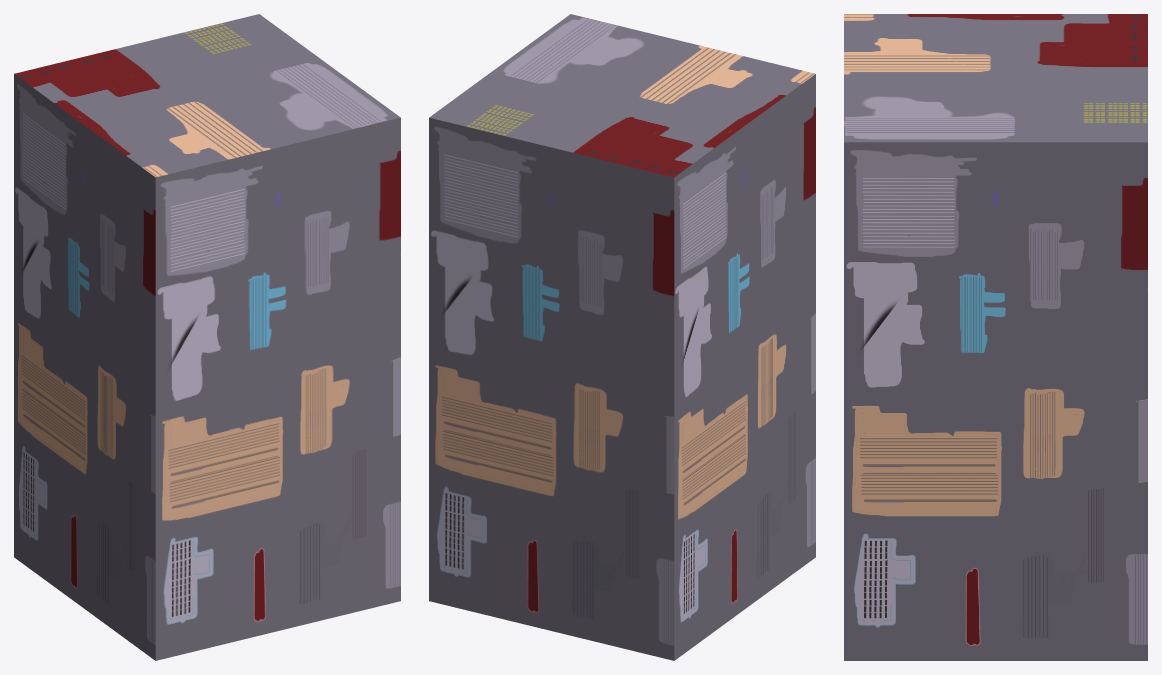
File: OfficeBuilding_Mesh.fbx
The picture shows the model from 3 angles, left to right: view 1: azimuth 30°, elevation 25°; view 2: azimuth 150°, elevation 25°; view 3: azimuth 270°, elevation 25°; orthographic projection. The views are drawn at different scales.
Parts seen in each view (by area): view 1: Cube.001; view 2: Cube.001; view 3: Cube.001.
Boxes of the visible parts, x1,y1,x2,y2 form: Cube.001: [14, 14, 400, 660]; Cube.001: [429, 14, 815, 660]; Cube.001: [844, 14, 1147, 660].
Bounding box in the file's own units: 582 × 1096 × 582.
1 material, 1 textured.
